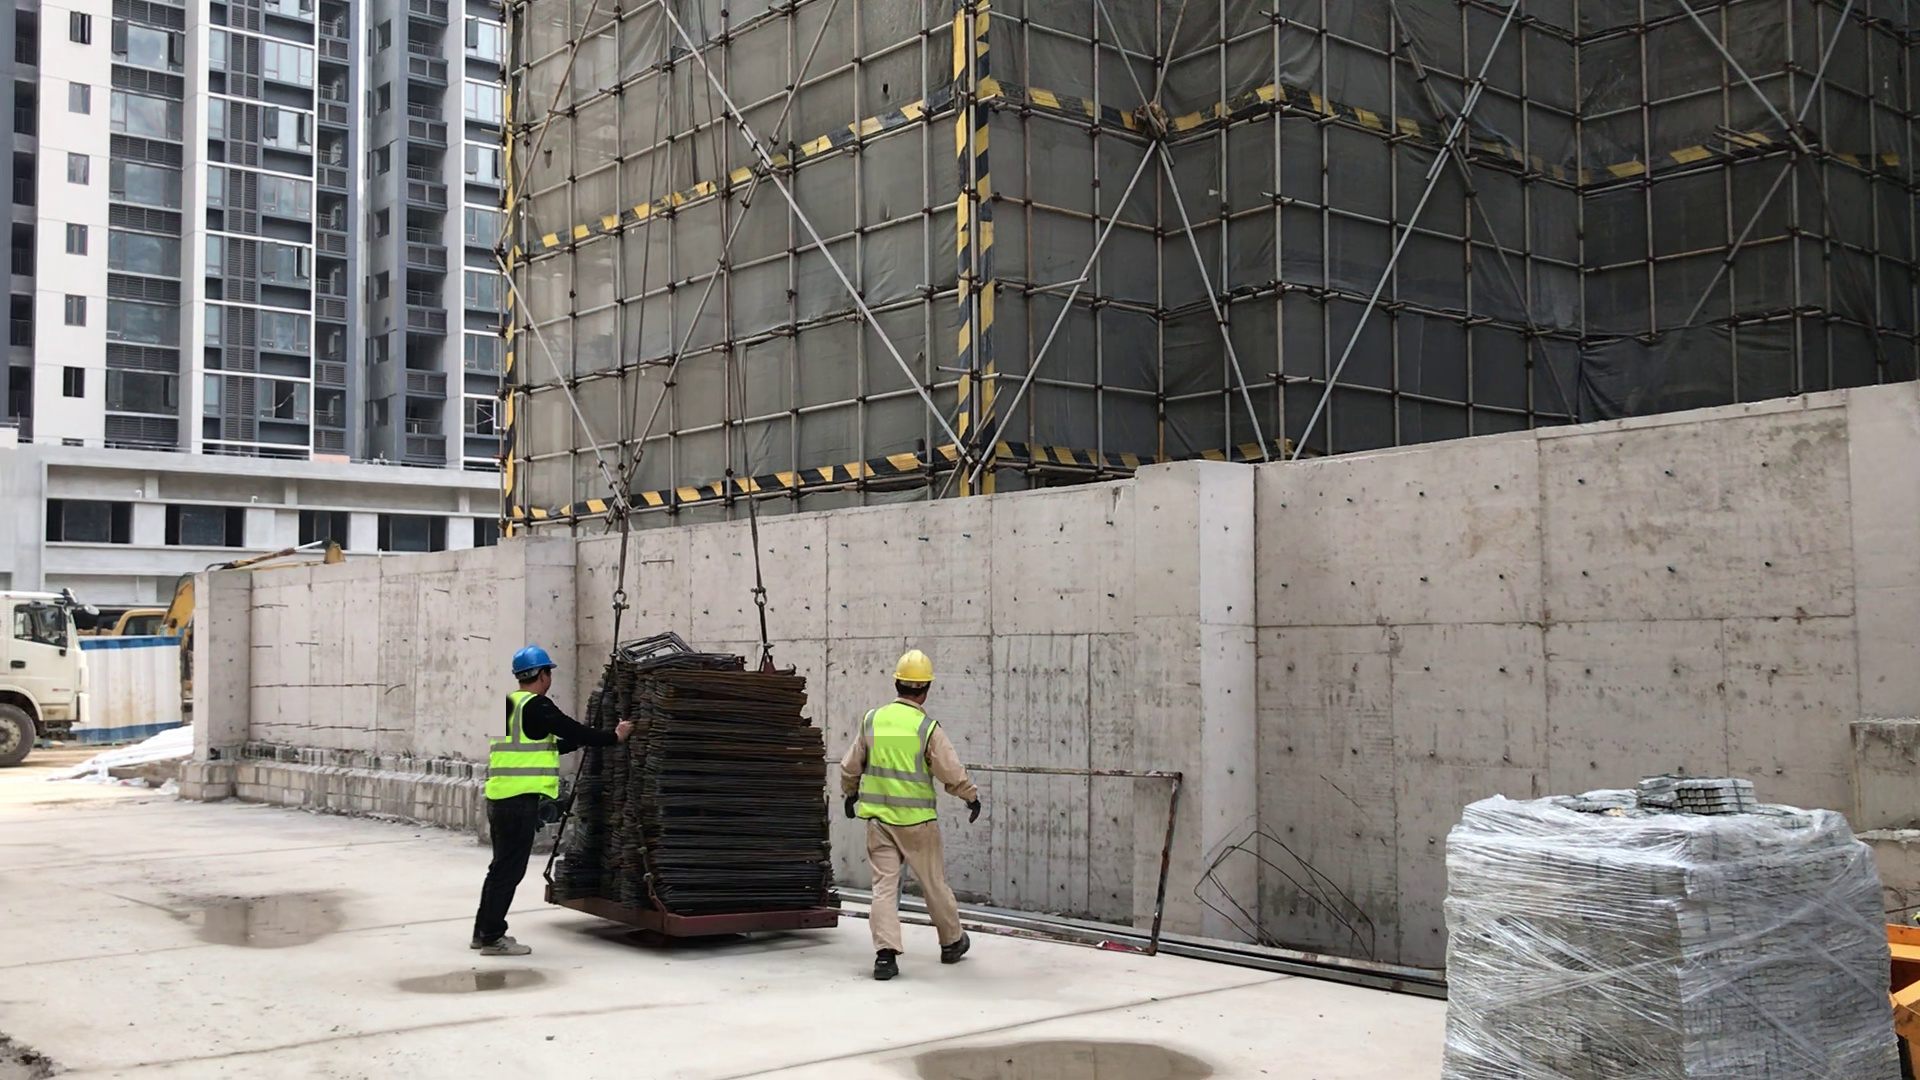helmet: (888, 647, 940, 687), (505, 646, 554, 679)
person: (842, 649, 979, 982), (482, 645, 569, 972)
vest: (851, 700, 943, 829), (486, 691, 562, 798)
